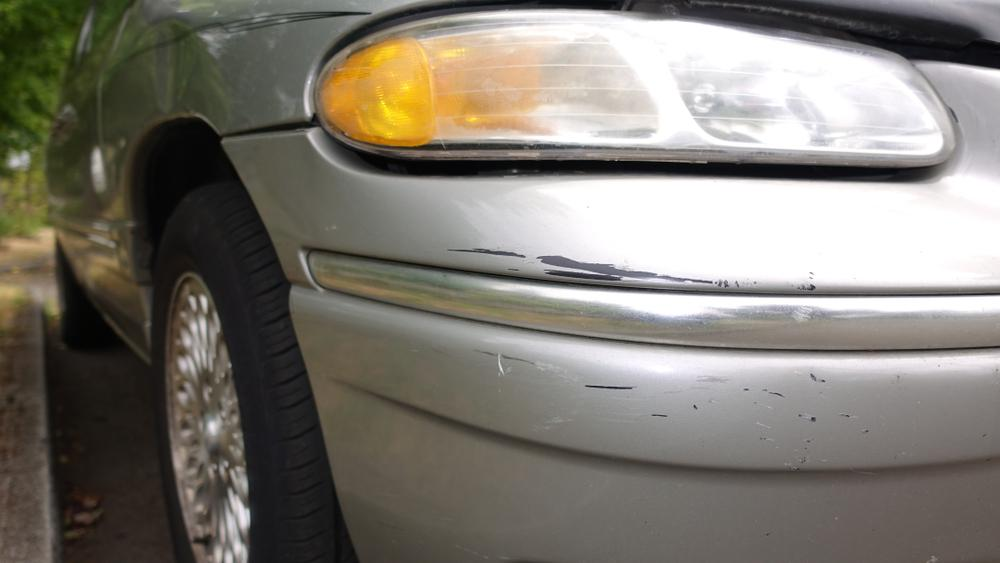scratch: (532, 359, 884, 462), (456, 236, 763, 290)
